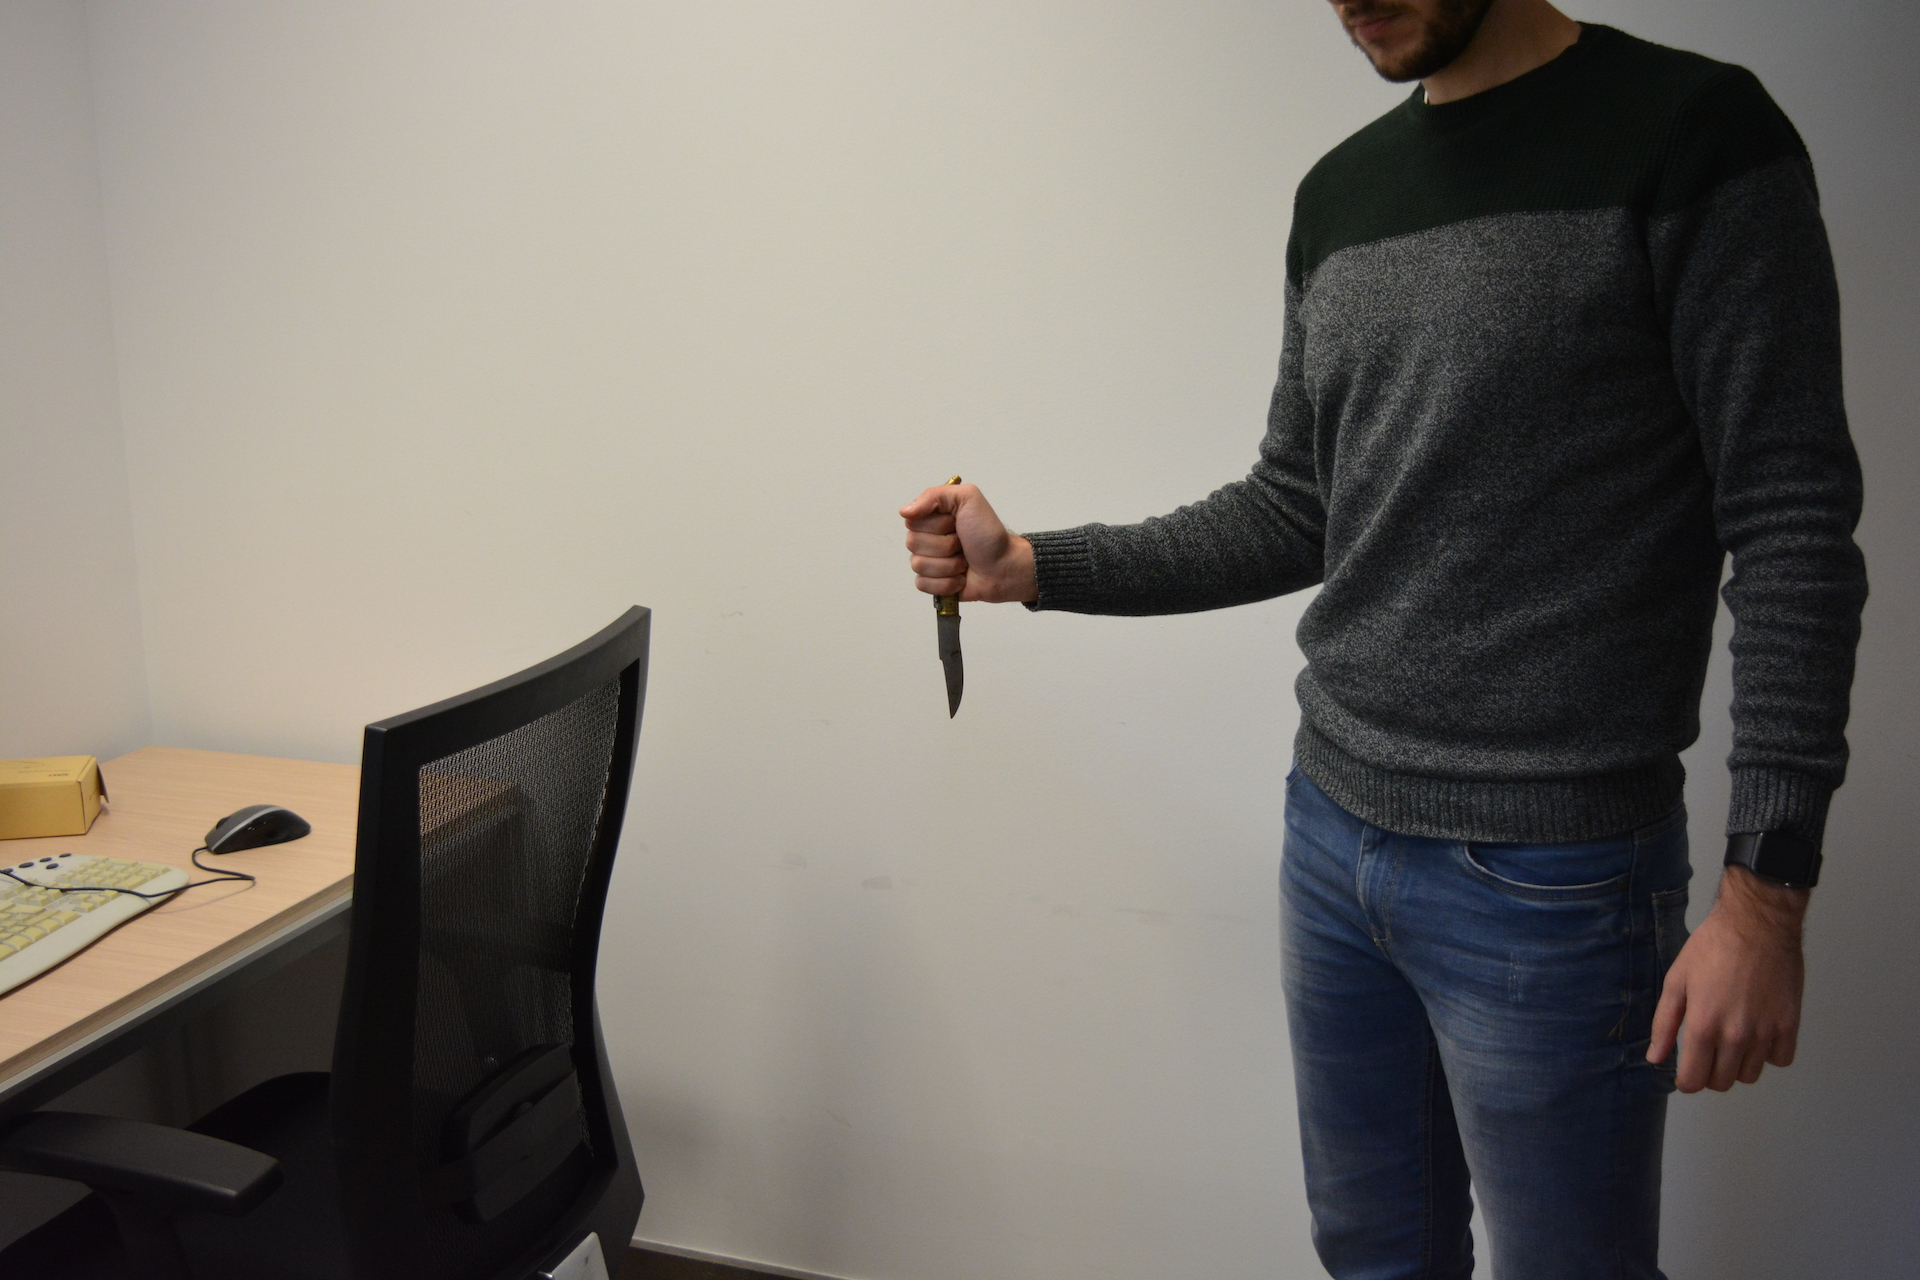knife: (921, 467, 977, 729)
